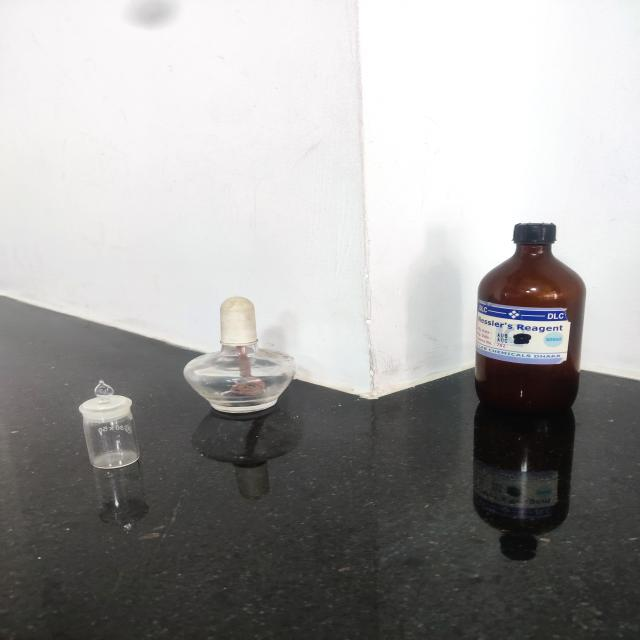Nessler_Reagent_Bottle: (431, 197, 629, 437)
Spirit_Lamp: (173, 283, 316, 427)
Weighing_Bottle: (34, 368, 162, 494)
